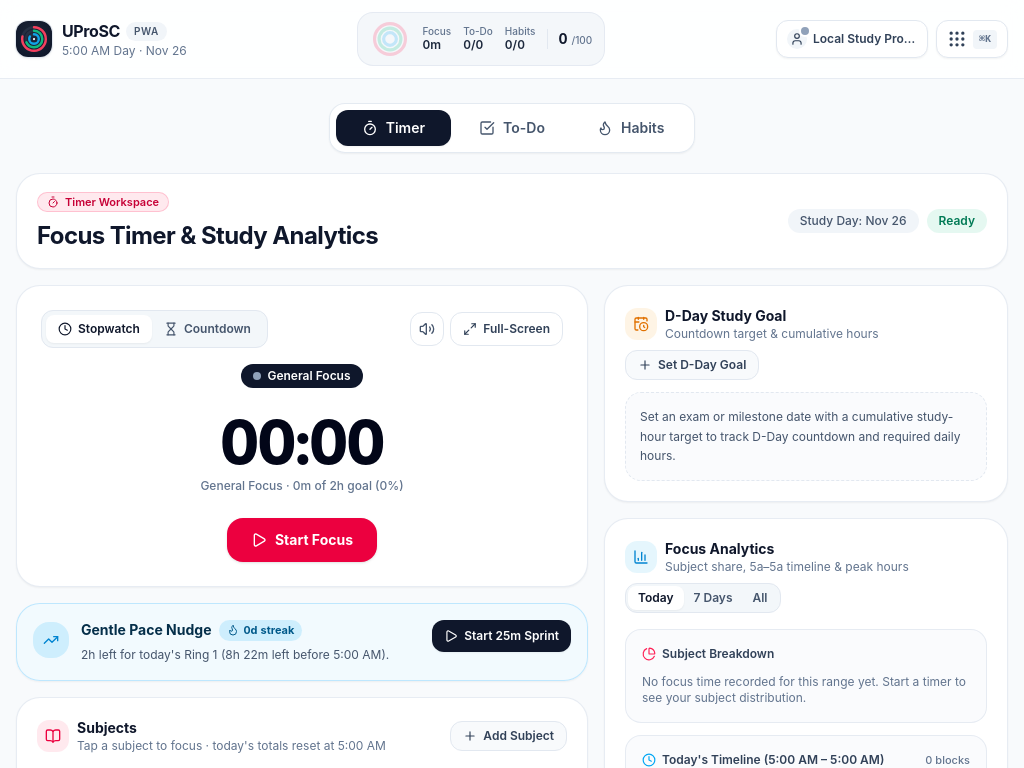
Test: UProSC Phase 1 App Shell › switches cleanly between Timer, To-Do, and Habits workspaces
Expected: the heading "Focus Timer & Study Analytics" is shown, x1=37 y1=220 x2=378 y2=252
Click the tab "To-Do": (512, 128) x1=455 y1=110 x2=569 y2=146
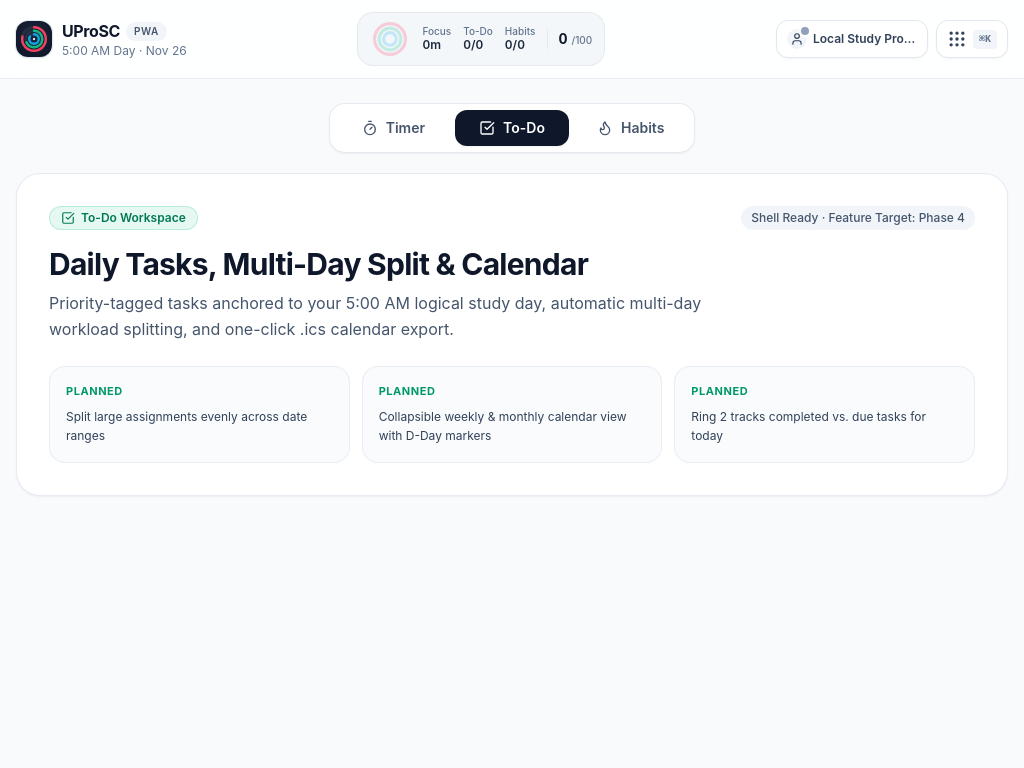
Expected: the heading "Daily Tasks, Multi-Day Split & Calendar" is shown, x1=49 y1=246 x2=588 y2=282
Click the tab "Habits": (631, 128) x1=573 y1=110 x2=688 y2=146
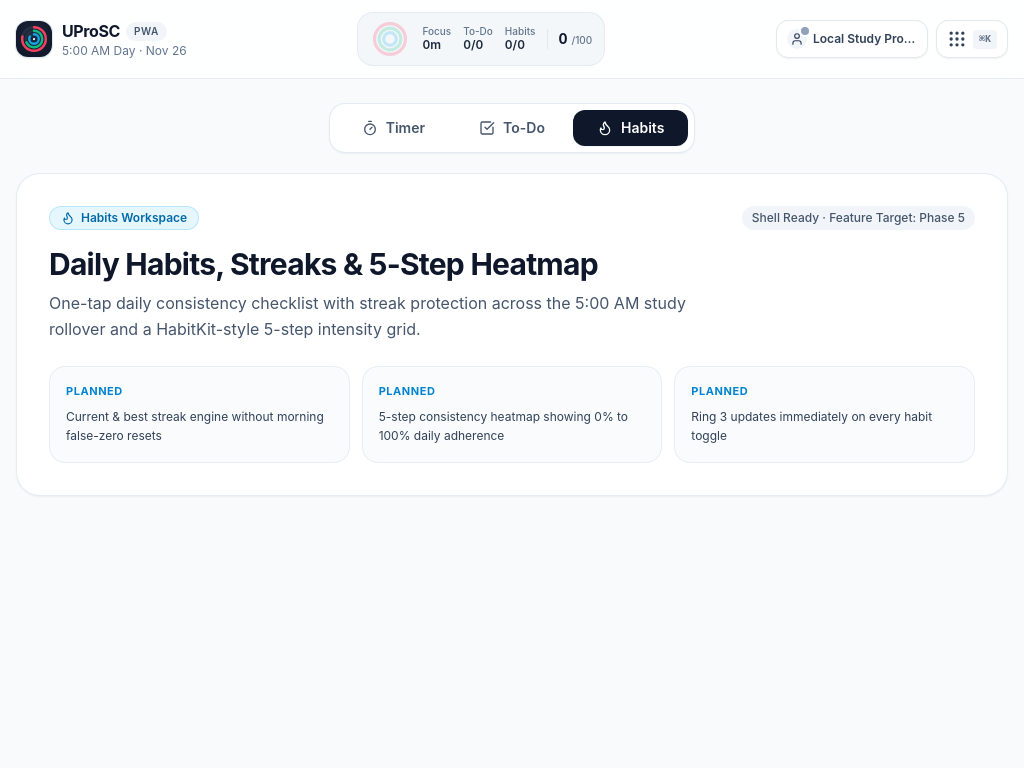
Expected: the heading "Daily Habits, Streaks & 5-Step Heatmap" is shown, x1=49 y1=246 x2=598 y2=282
